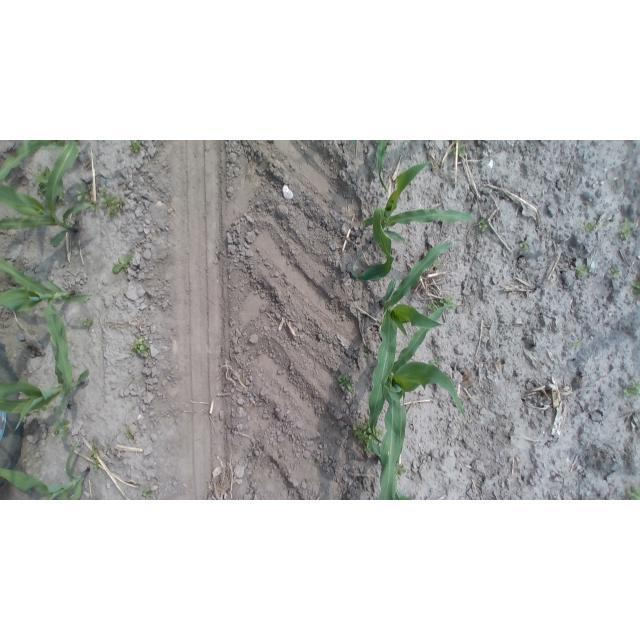Maize: (363, 234, 469, 436), (368, 301, 468, 500), (347, 158, 477, 283), (0, 259, 94, 392), (0, 307, 90, 442), (1, 141, 92, 248), (0, 438, 90, 500), (365, 439, 424, 500), (1, 140, 59, 181), (376, 140, 394, 192), (345, 141, 357, 152)
Weeds: (352, 419, 384, 458), (98, 186, 126, 219), (112, 254, 135, 275), (132, 337, 153, 359), (621, 379, 640, 402), (428, 297, 457, 312), (36, 167, 50, 198), (337, 373, 356, 395), (73, 182, 91, 205), (89, 444, 103, 473), (51, 421, 73, 435), (620, 219, 633, 239), (393, 464, 409, 480), (582, 218, 600, 231), (127, 141, 144, 154), (626, 485, 640, 500), (452, 143, 465, 159), (631, 277, 640, 299), (476, 219, 489, 234), (518, 240, 531, 253), (574, 264, 587, 277), (141, 488, 155, 500), (428, 357, 446, 366), (123, 429, 135, 442), (609, 267, 622, 279), (82, 315, 93, 329), (57, 191, 68, 204), (432, 259, 443, 271), (90, 202, 98, 214), (569, 339, 579, 347), (364, 351, 370, 361), (91, 437, 101, 443), (19, 415, 29, 421), (315, 460, 322, 468), (34, 407, 41, 413)
